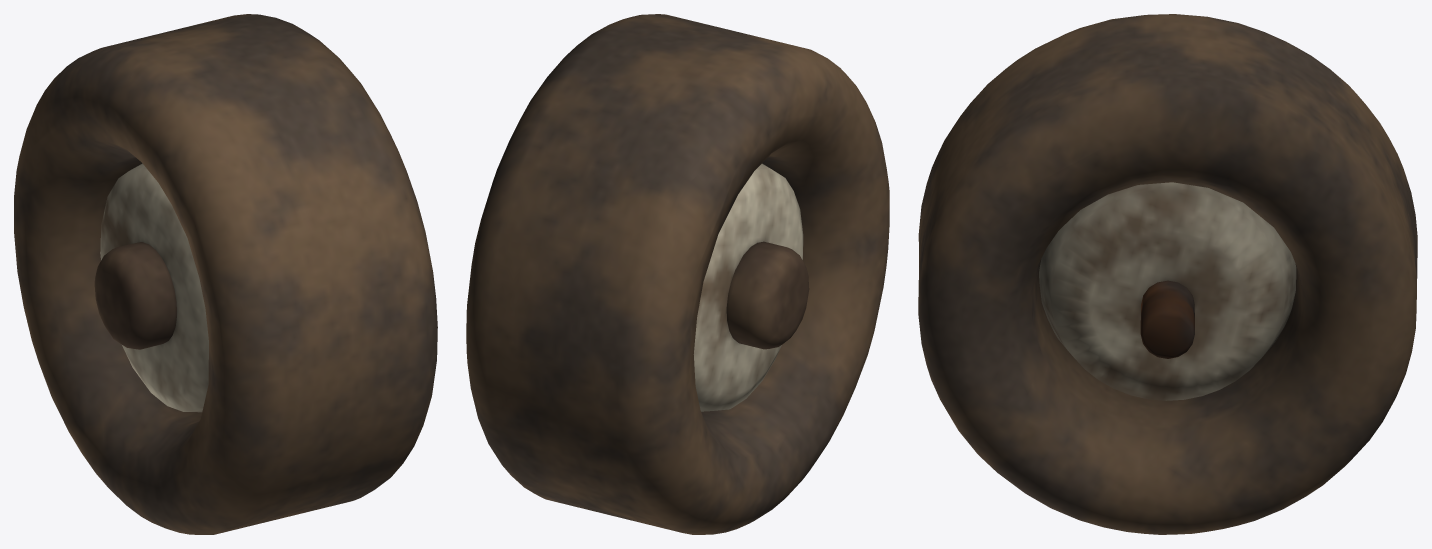
3 views of the same model, side by side, from view 1: azimuth 30°, elevation 25°; view 2: azimuth 150°, elevation 25°; view 3: azimuth 270°, elevation 25° (orthographic).
Parts seen in each view (by area): view 1: wheel_FR; view 2: wheel_FR; view 3: wheel_FR.
Boxes of the visible parts, bbox=[...] form: wheel_FR: bbox=[14, 14, 437, 534]; wheel_FR: bbox=[466, 14, 889, 534]; wheel_FR: bbox=[918, 14, 1417, 534].
Size of the model in its own units: 0.1815 by 0.3293 by 0.3294.
Materials: 1 (1 with a texture image).
